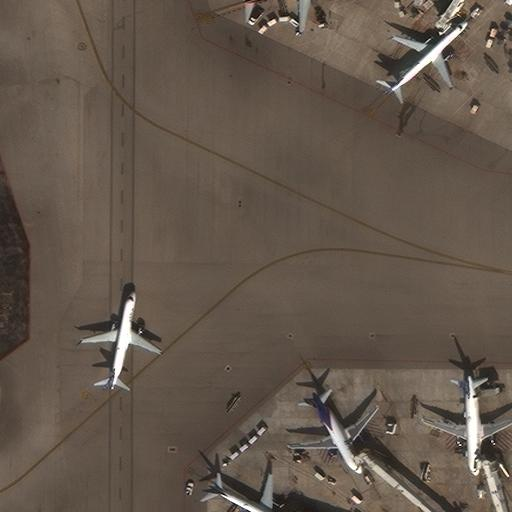Medium Civil Transport: (422, 374, 511, 476), (81, 290, 162, 389), (290, 392, 379, 474), (385, 22, 467, 93), (208, 474, 294, 512), (242, 0, 328, 32)
